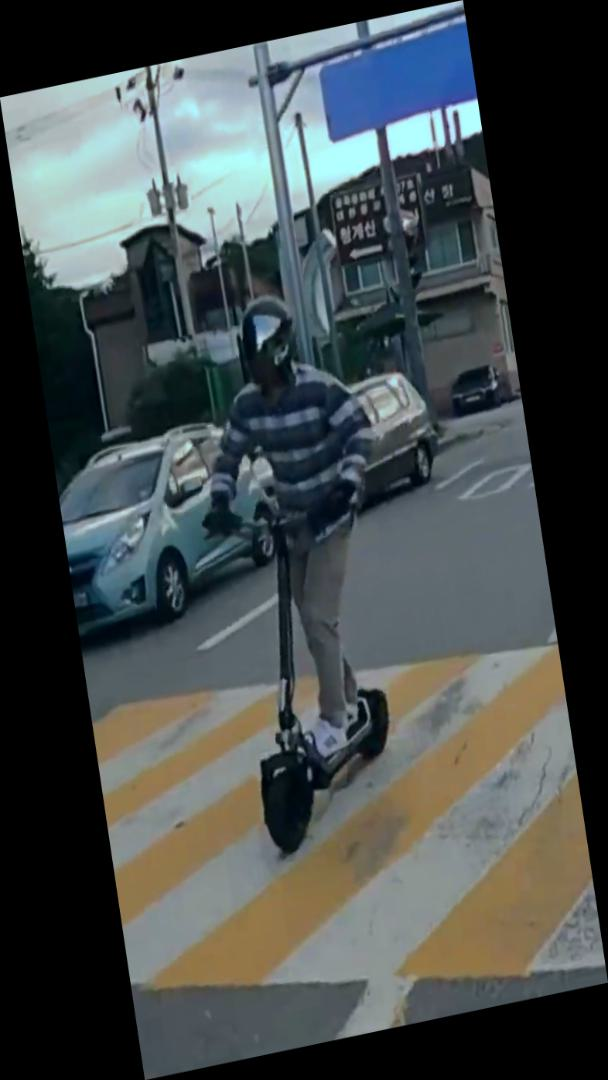helmet: (178, 275, 435, 864)
